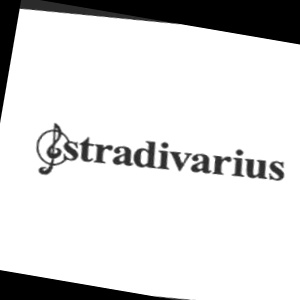stradivarius: (278, 93, 300, 196)
